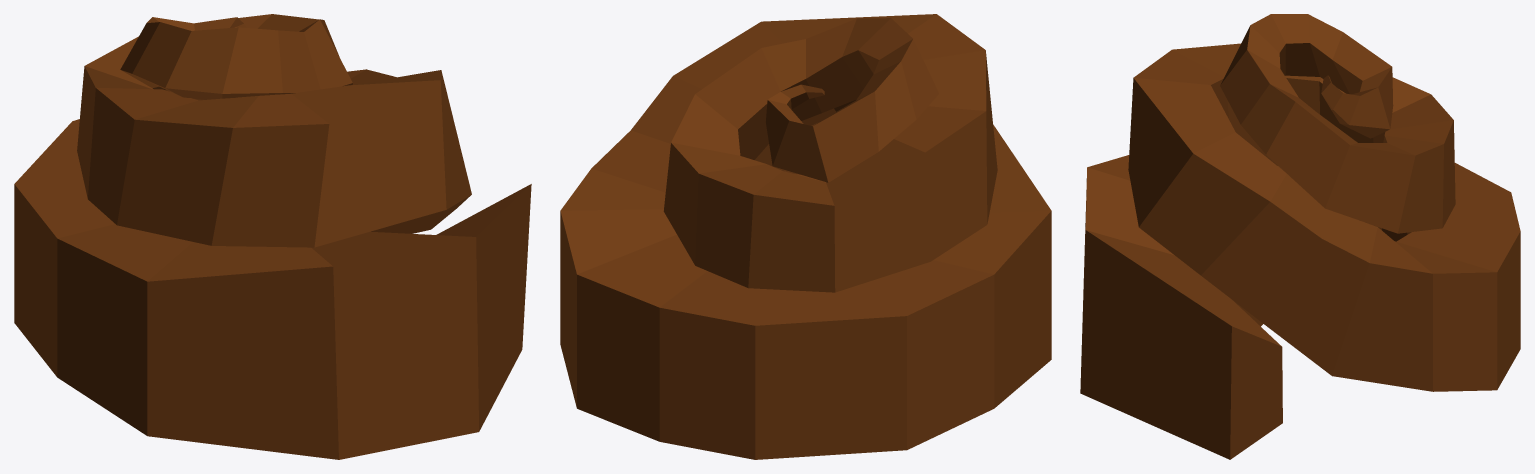
The model's file is popo.fbx.
3 views of the same model, side by side, from view 1: azimuth 30°, elevation 25°; view 2: azimuth 150°, elevation 25°; view 3: azimuth 270°, elevation 25° (orthographic). The views are drawn at different scales.
Visible parts, largest first — view 1: Cube; view 2: Cube; view 3: Cube.
Part boxes in pixels (x1=…): Cube: x1=14, y1=14, x2=531, y2=459; Cube: x1=560, y1=14, x2=1051, y2=459; Cube: x1=1080, y1=14, x2=1520, y2=459.
Bounding box in the file's own units: 4.62 × 3.94 × 4.87.
